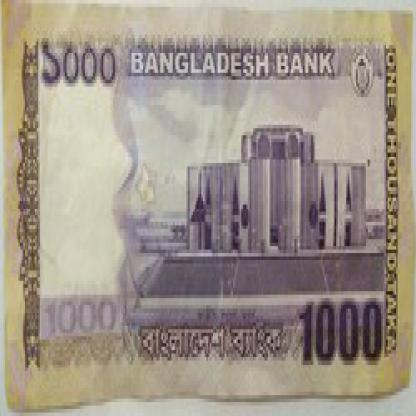One Thousand taka: (298, 294, 386, 367), (38, 35, 122, 94), (42, 294, 118, 340)
